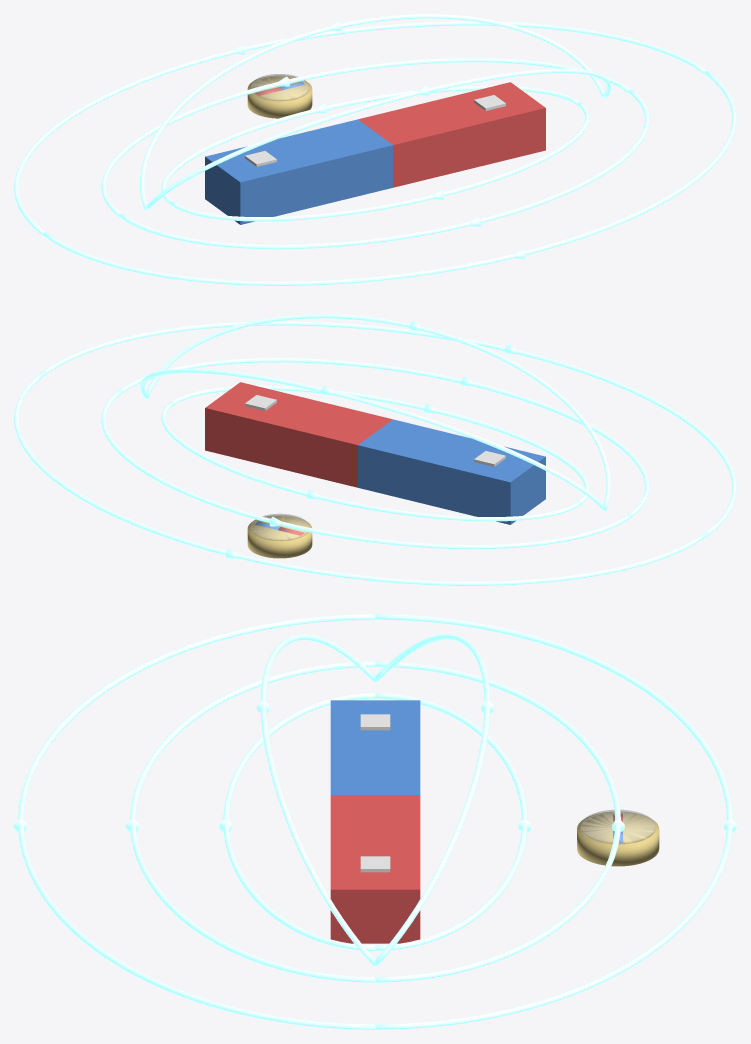
Rendered from bar-magnet.glb.
The picture shows the model from 3 angles, top to bottom: view 1: azimuth 30°, elevation 25°; view 2: azimuth 150°, elevation 25°; view 3: azimuth 270°, elevation 25°; orthographic projection. The views are drawn at different scales.
Parts seen in each view (by area): view 1: bar-magnet-south, bar-magnet-north, bar-magnet-flux-5, bar-magnet-flux-2, bar-magnet-flux-4, bar-magnet-flux-6, bar-magnet-flux-1, bar-magnet-flux-7, bar-magnet-flux-3, bar-magnet-compass-case, bar-magnet-flux-0, bar-magnet-compass-glass; view 2: bar-magnet-south, bar-magnet-north, bar-magnet-flux-2, bar-magnet-flux-5, bar-magnet-flux-1, bar-magnet-flux-7, bar-magnet-flux-4, bar-magnet-flux-6, bar-magnet-flux-0, bar-magnet-compass-case, bar-magnet-flux-3, bar-magnet-compass-glass; view 3: bar-magnet-north, bar-magnet-south, bar-magnet-flux-2, bar-magnet-flux-5, bar-magnet-flux-1, bar-magnet-flux-4, bar-magnet-compass-case, bar-magnet-flux-6, bar-magnet-flux-7, bar-magnet-flux-0, bar-magnet-flux-3, bar-magnet-compass-glass.
Part boxes in pixels (bbox=[...]): bar-magnet-south: bbox=[205, 119, 392, 224]; bar-magnet-north: bbox=[358, 82, 545, 187]; bar-magnet-flux-5: bbox=[42, 70, 736, 285]; bar-magnet-flux-2: bbox=[14, 21, 707, 235]; bar-magnet-flux-4: bbox=[119, 89, 649, 249]; bar-magnet-flux-6: bbox=[140, 14, 604, 209]; bar-magnet-flux-1: bbox=[101, 58, 630, 217]; bar-magnet-flux-7: bbox=[144, 68, 610, 211]; bar-magnet-flux-3: bbox=[170, 102, 589, 221]; bar-magnet-compass-case: bbox=[247, 75, 312, 118]; bar-magnet-flux-0: bbox=[161, 85, 579, 204]; bar-magnet-compass-glass: bbox=[250, 74, 309, 100]; bar-magnet-south: bbox=[358, 419, 545, 524]; bar-magnet-north: bbox=[205, 382, 392, 487]; bar-magnet-flux-2: bbox=[14, 370, 708, 585]; bar-magnet-flux-5: bbox=[43, 321, 736, 535]; bar-magnet-flux-1: bbox=[101, 389, 631, 549]; bar-magnet-flux-7: bbox=[146, 314, 610, 509]; bar-magnet-flux-4: bbox=[120, 358, 649, 517]; bar-magnet-flux-6: bbox=[140, 368, 606, 511]; bar-magnet-flux-0: bbox=[161, 402, 580, 521]; bar-magnet-compass-case: bbox=[247, 515, 312, 558]; bar-magnet-flux-3: bbox=[171, 385, 589, 504]; bar-magnet-compass-glass: bbox=[250, 513, 309, 540]; bar-magnet-north: bbox=[330, 795, 420, 943]; bar-magnet-south: bbox=[330, 700, 420, 794]; bar-magnet-flux-2: bbox=[375, 614, 732, 1029]; bar-magnet-flux-5: bbox=[18, 614, 375, 1029]; bar-magnet-flux-1: bbox=[375, 661, 620, 982]; bar-magnet-flux-4: bbox=[130, 661, 375, 982]; bar-magnet-compass-case: bbox=[577, 811, 659, 866]; bar-magnet-flux-6: bbox=[375, 634, 490, 965]; bar-magnet-flux-7: bbox=[260, 634, 375, 965]; bar-magnet-flux-0: bbox=[375, 693, 527, 950]; bar-magnet-flux-3: bbox=[223, 693, 375, 950]; bar-magnet-compass-glass: bbox=[580, 809, 655, 844].
Size of the model in its own units: 0.2616 by 0.0448 by 0.1937.
